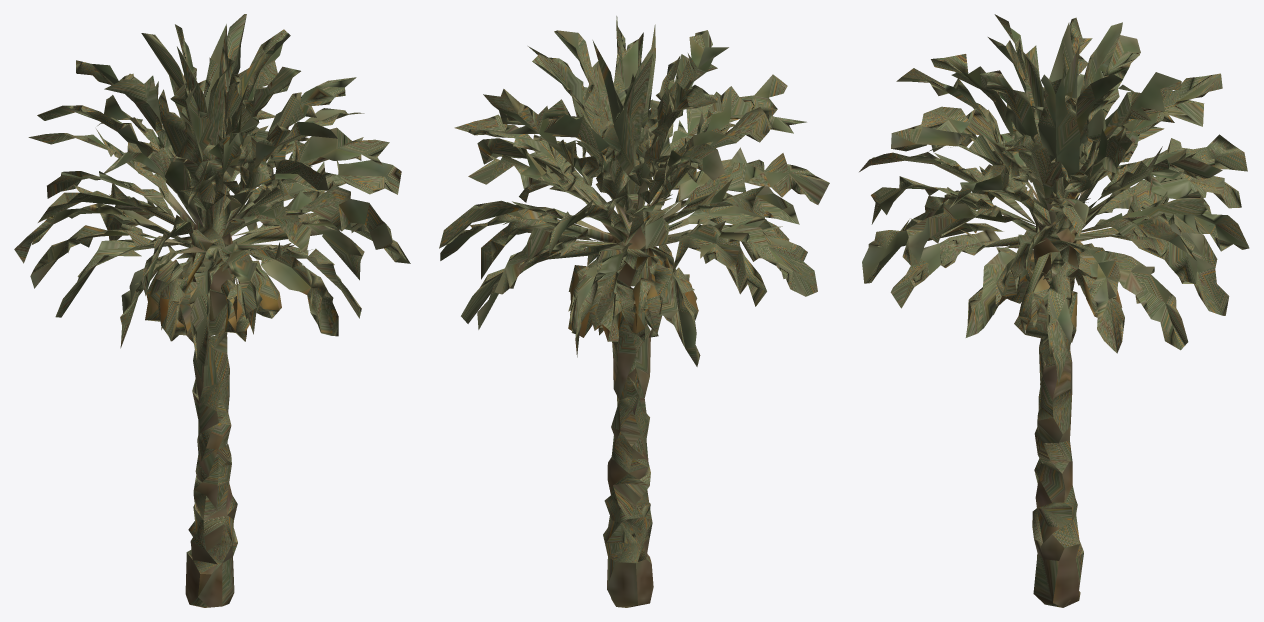
Rendered from desert-plants-date-palm.glb.
3 renders of one model, left to right at view 1: azimuth 30°, elevation 25°; view 2: azimuth 150°, elevation 25°; view 3: azimuth 270°, elevation 25°, orthographic.
Visible parts, largest first — view 1: world; view 2: world; view 3: world.
Part boxes in pixels (x1,y1,x2,y2): world: (14,14,410,607); world: (439,16,829,607); world: (859,14,1249,607).
Bounding box in the file's own units: 0.6375 × 1 × 0.624.
Materials: 1 (1 with a texture image).
